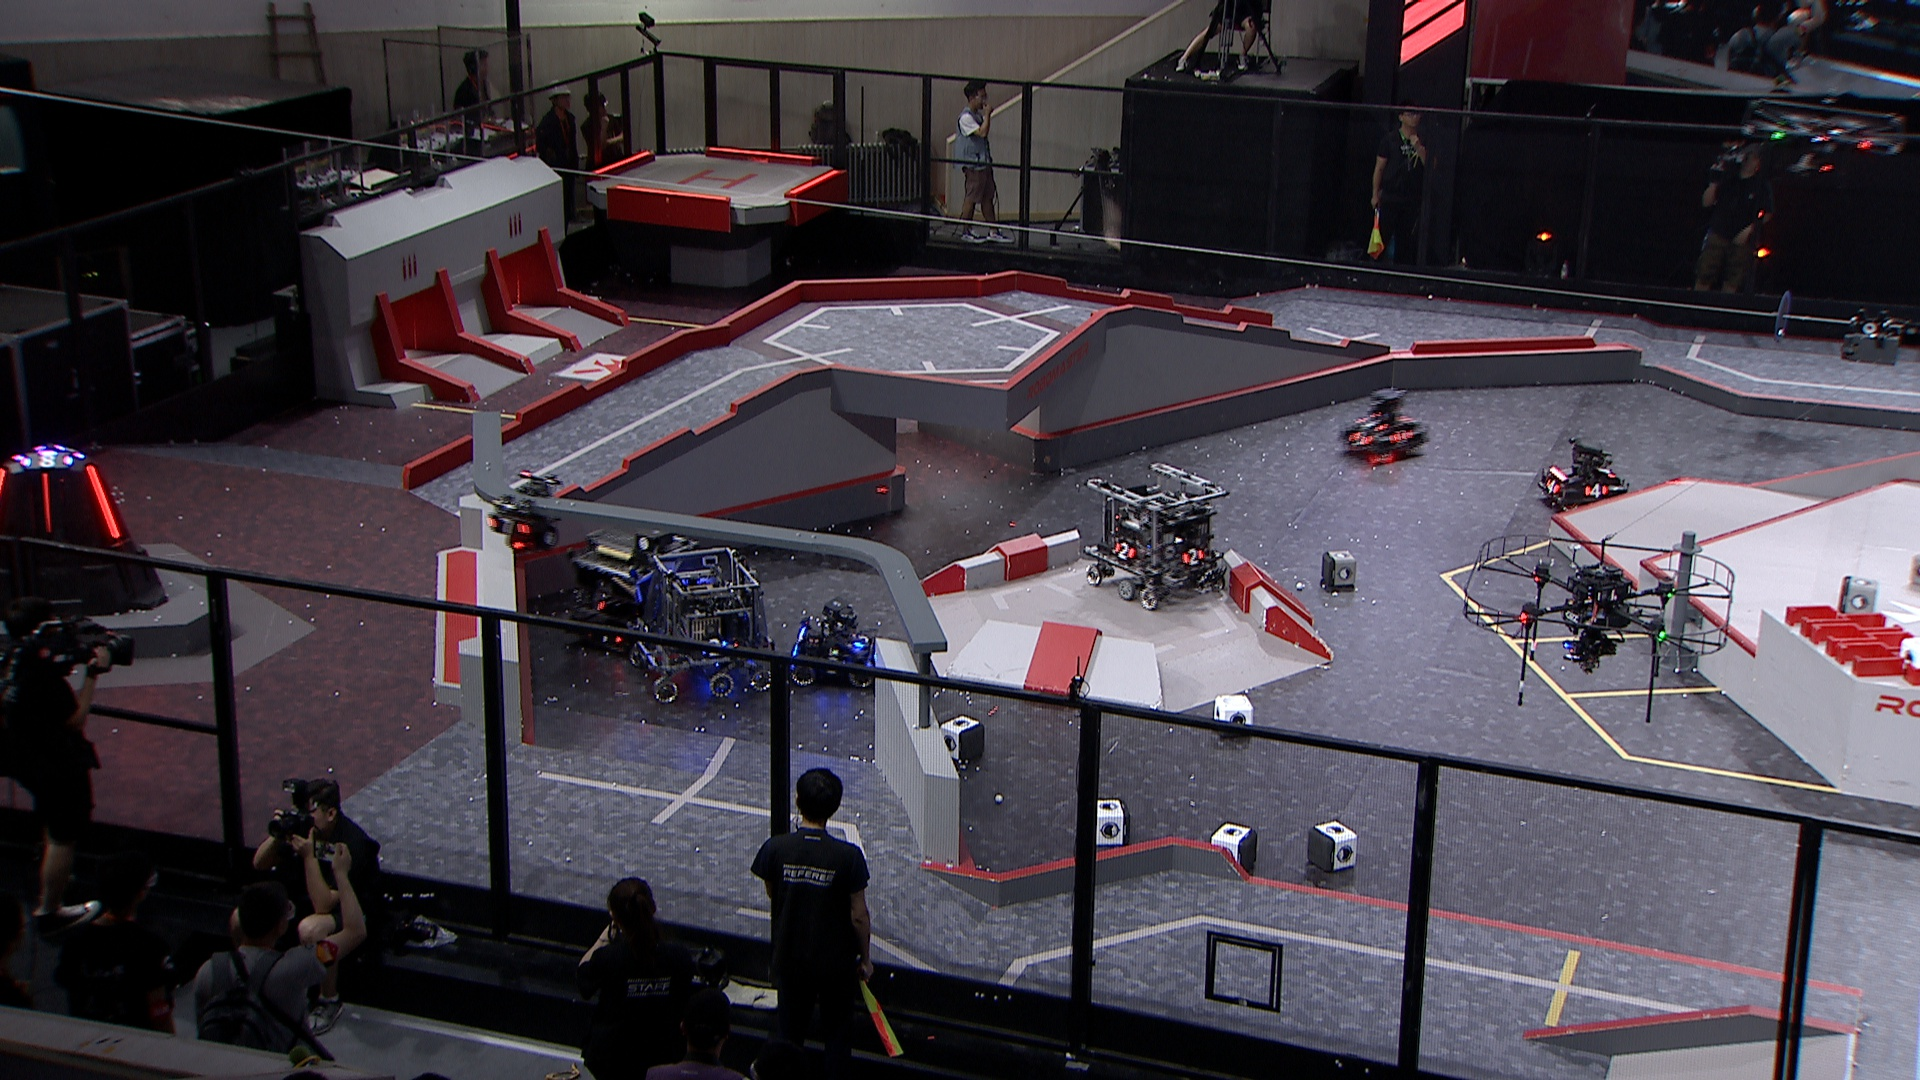armor: (88, 465, 121, 541), (487, 512, 527, 541), (40, 471, 53, 527), (818, 655, 845, 676), (1346, 429, 1371, 447), (1112, 542, 1135, 560), (707, 637, 731, 655), (1183, 549, 1205, 566), (1358, 414, 1385, 429), (1386, 427, 1414, 440), (852, 629, 870, 647), (1586, 484, 1607, 498), (1596, 463, 1614, 477), (1542, 475, 1557, 491)
car: (626, 546, 778, 698), (1081, 462, 1226, 612), (564, 520, 688, 655), (787, 599, 878, 692), (1538, 440, 1631, 514), (1338, 386, 1425, 465)
ignore: (22, 448, 69, 469)
watcher: (480, 469, 562, 559)
